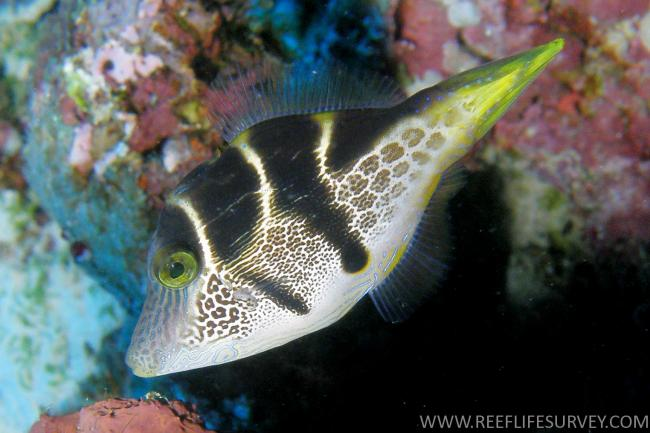fish: (124, 39, 566, 377)
